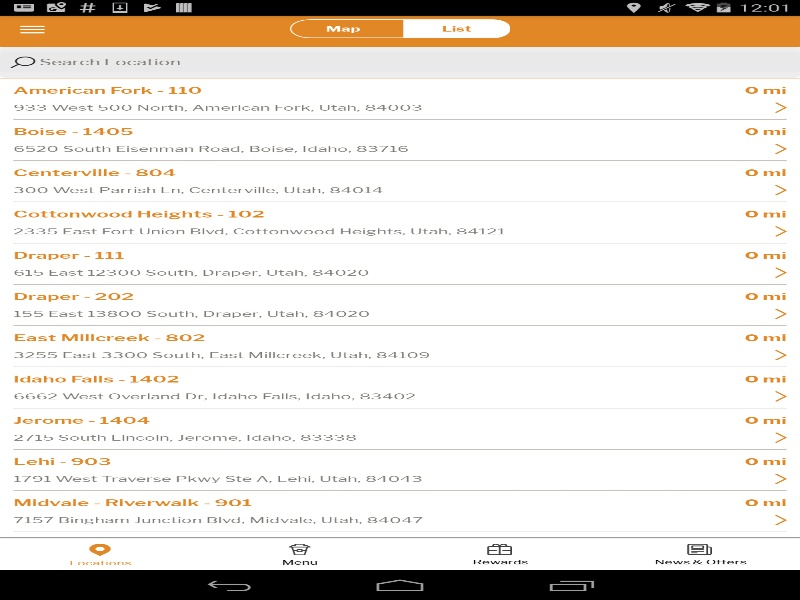Button: (290, 19, 396, 38), (403, 19, 509, 38)
Input: (0, 51, 800, 73)
